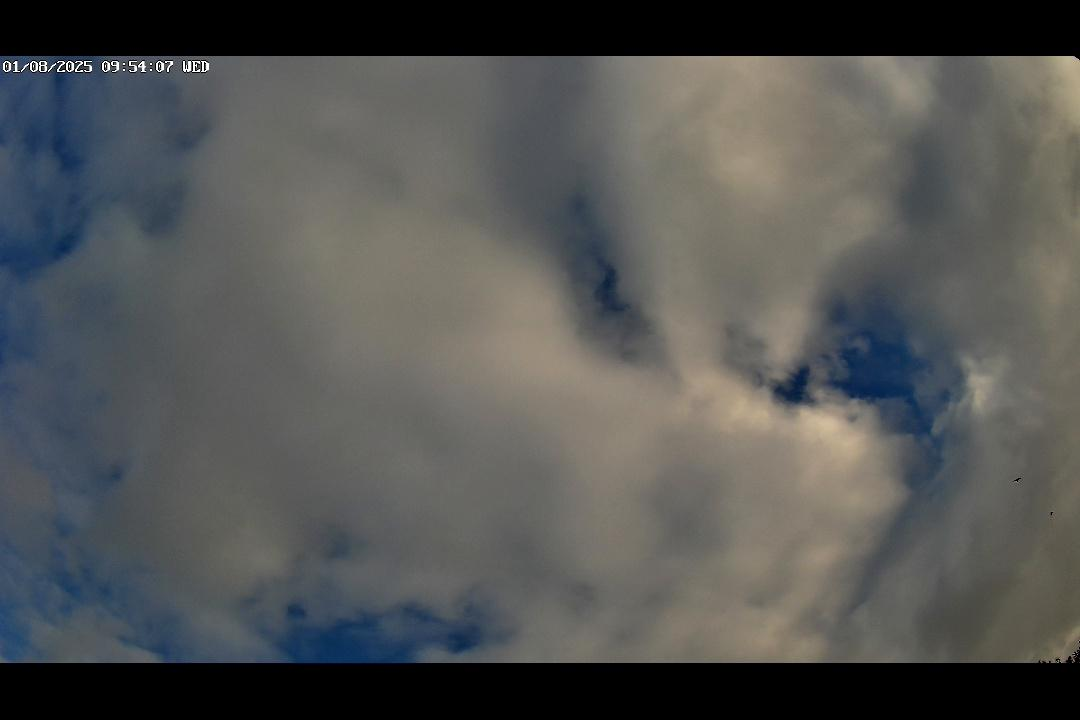WildLife: (1010, 472, 1027, 488), (1045, 508, 1062, 518)
